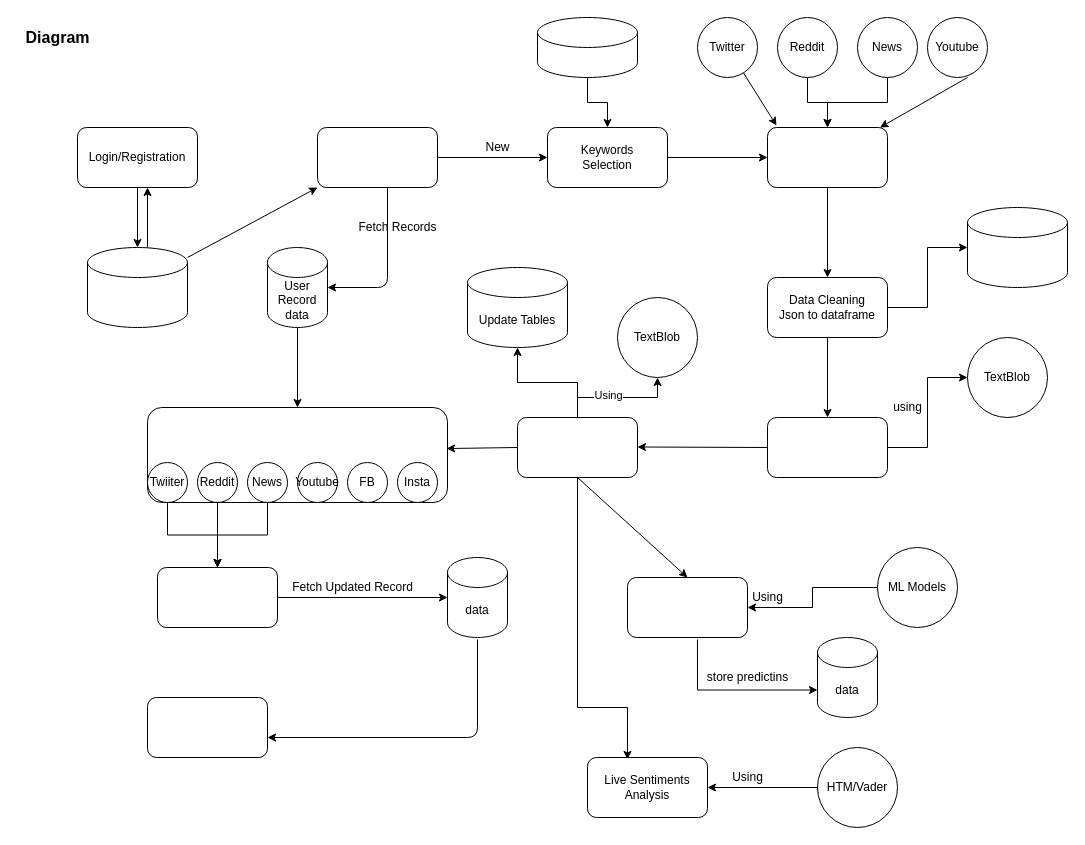
The diagram is 1085 pixels wide and 845 high, and some of its shapes have lost their labels. The box of each missing label's shape, as (x1, y1, x2, y2) in pixels:
API Call Data Scrapping: (766, 126, 888, 188)
Authentication: (86, 246, 188, 328)
Data Stores in Tables: (966, 206, 1068, 288)
Display sentiments analysis regarding Selected Media: (146, 696, 268, 758)
Language Detection & Translation: (766, 416, 888, 478)
New Project or Open Project: (316, 126, 438, 188)
Select Any Media: (156, 566, 278, 628)
sentiments Analysis & Influence Score: (516, 416, 638, 478)
Sentiments Analysis Display Board: (146, 406, 448, 502)
Stock Market Predictions: (626, 576, 748, 638)
Store Stocks: (536, 16, 638, 78)
